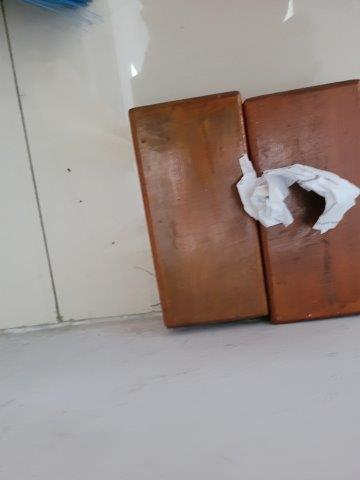kertas: (234, 157, 360, 235)
